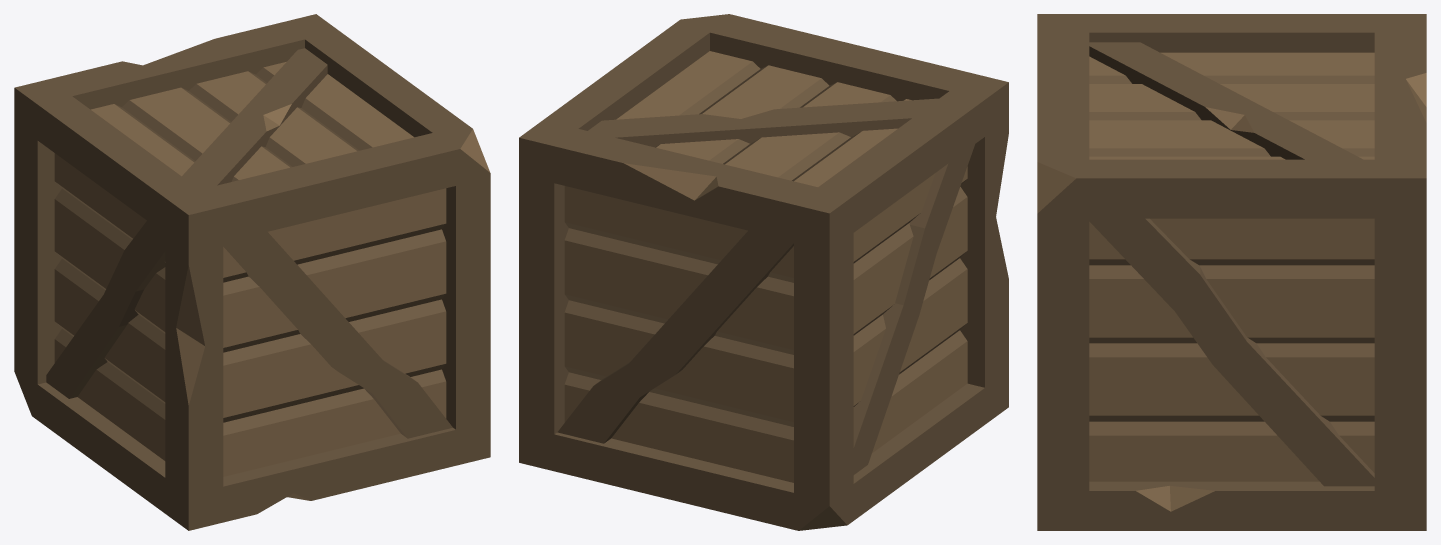
File: poly_crate_a.glb
The picture shows the model from 3 angles, left to right: view 1: azimuth 30°, elevation 25°; view 2: azimuth 150°, elevation 25°; view 3: azimuth 270°, elevation 25°; orthographic projection. The views are drawn at different scales.
Visible parts, largest first — view 1: SM_Prop_Crate_01; view 2: SM_Prop_Crate_01; view 3: SM_Prop_Crate_01.
Boxes of the visible parts, x1,y1,x2,y2 form: SM_Prop_Crate_01: (14, 14, 490, 530); SM_Prop_Crate_01: (519, 14, 1008, 530); SM_Prop_Crate_01: (1037, 14, 1426, 530).
Bounding box in the file's own units: 76.65 × 76.65 × 76.65.
1 material, 1 textured.
